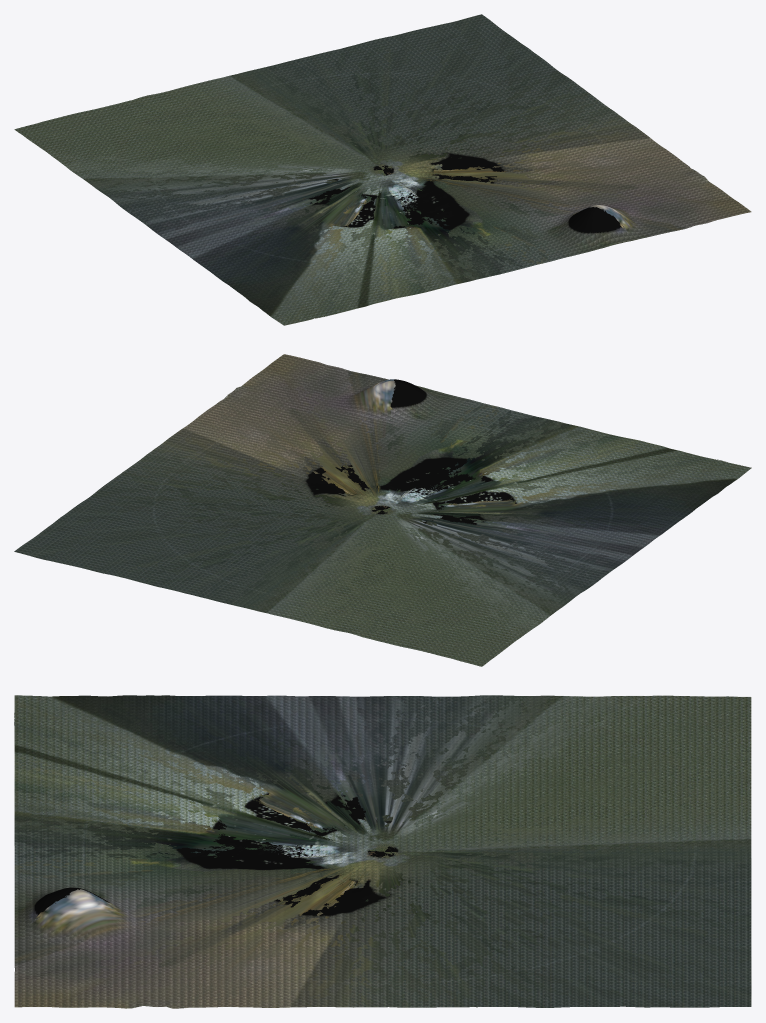
Rendered from env.glb.
The picture shows the model from 3 angles, top to bottom: view 1: azimuth 30°, elevation 25°; view 2: azimuth 150°, elevation 25°; view 3: azimuth 270°, elevation 25°; orthographic projection. The views are drawn at different scales.
Parts seen in each view (by area): view 1: terrain, terrain_overlay_2; view 2: terrain, terrain_overlay_2; view 3: terrain, terrain_overlay_2.
Part boxes in pixels (x1,y1,x2,y2): terrain: [14, 14, 751, 325]; terrain_overlay_2: [17, 19, 732, 321]; terrain: [14, 354, 751, 666]; terrain_overlay_2: [29, 366, 735, 665]; terrain: [14, 695, 751, 1008]; terrain_overlay_2: [14, 696, 751, 1008].
Size of what is drawn, in the model's own units: 401 by 20.64 by 401.
Materials: 4 (4 with a texture image).
